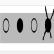correct: (16, 16, 24, 34)
no answer: (2, 17, 10, 35), (31, 16, 38, 36)
not correct: (42, 4, 54, 41)
